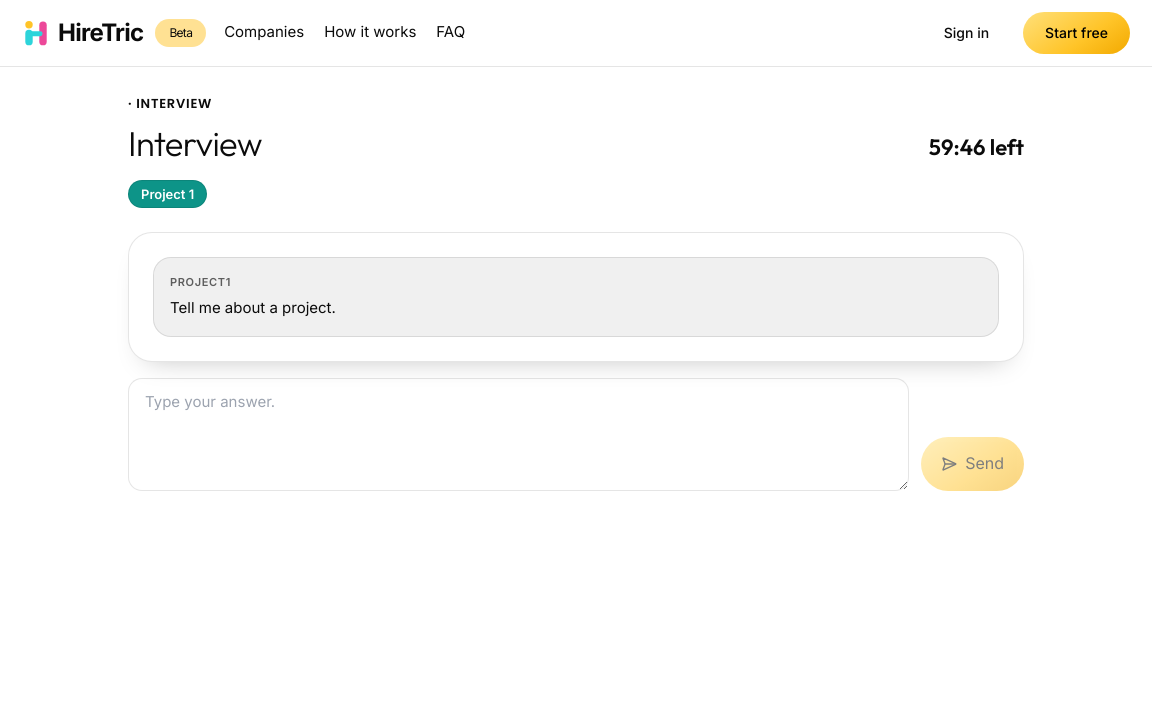
a successful submit clears the answer box and does not toast
(page scrolled)
Type "A real answer." into the text box with test id "spark-answer-input" at [519, 435], box [128,378,909,491]
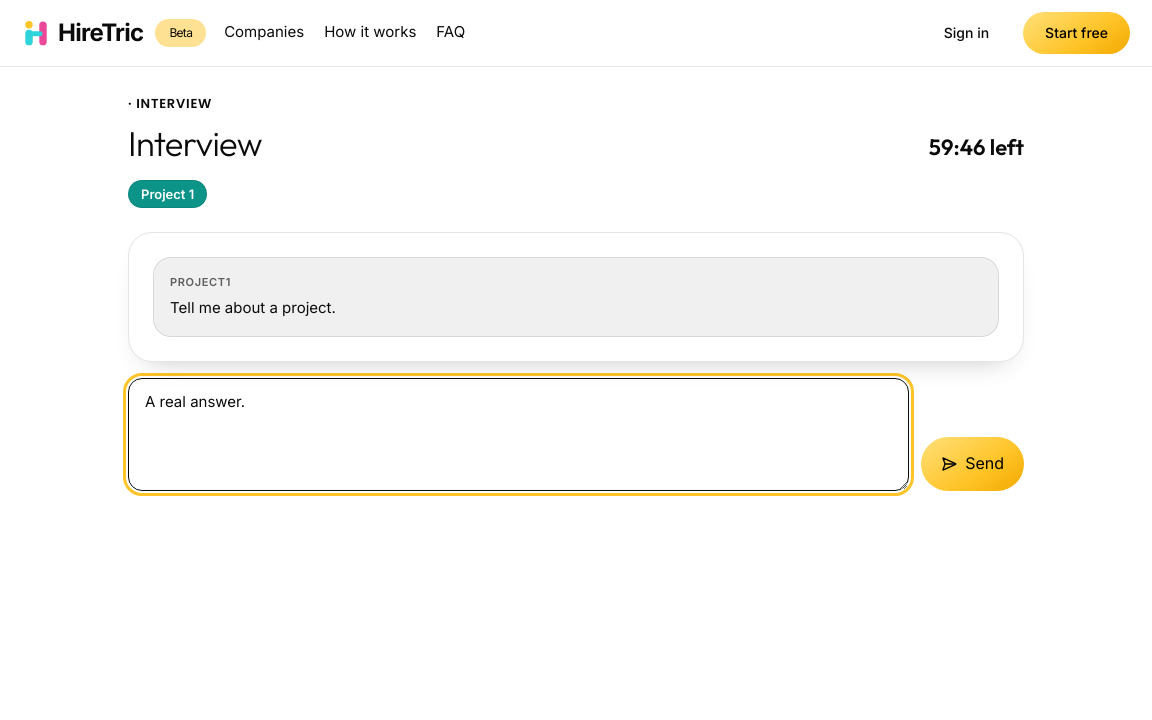
Click the button with test id "spark-submit-answer" at [973, 464], box [921,437,1024,491]
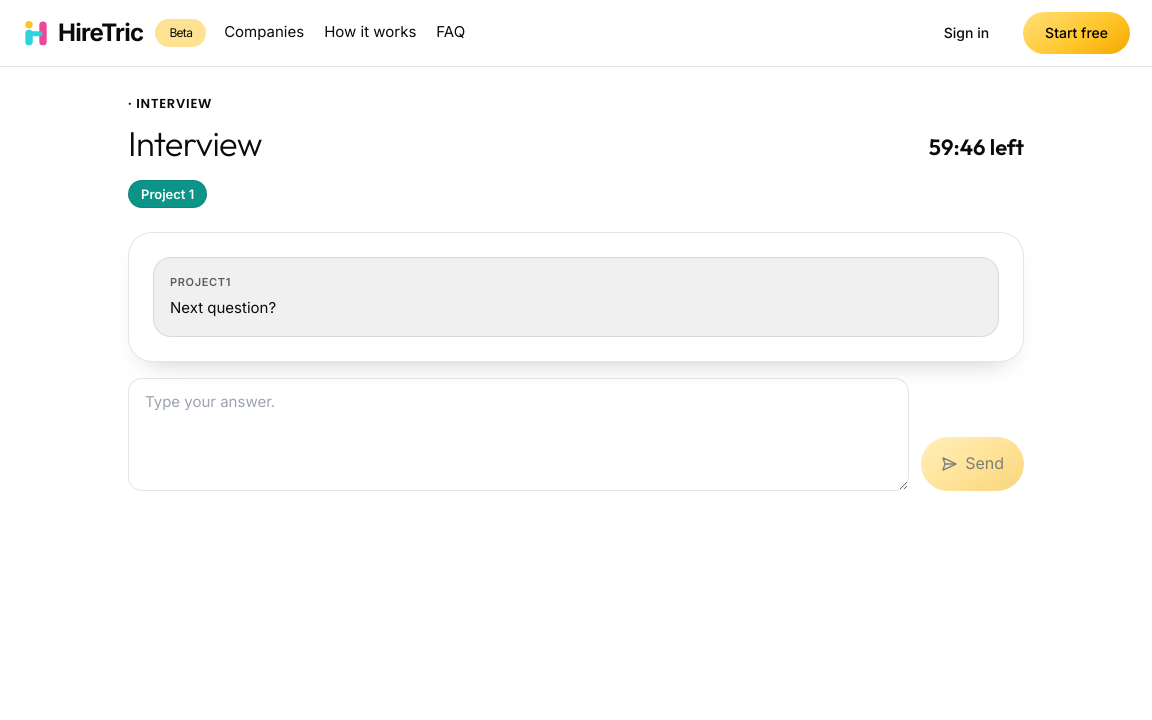
Result: the text box with test id "spark-answer-input" is empty at [128,378,909,491]
